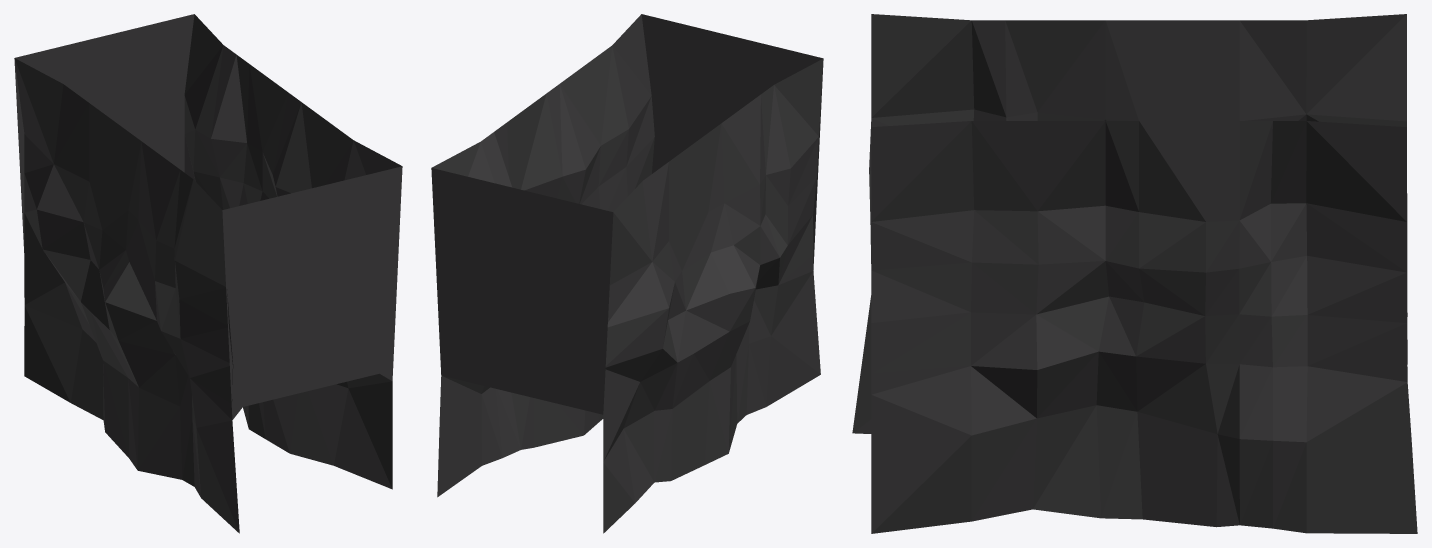
File: Cave_9B.fbx
The picture shows the model from 3 angles, left to right: view 1: azimuth 30°, elevation 25°; view 2: azimuth 150°, elevation 25°; view 3: azimuth 270°, elevation 25°; orthographic projection. The views are drawn at different scales.
Visible parts, largest first — view 1: polySurface9; view 2: polySurface9; view 3: polySurface9.
Boxes of the visible parts, left/top/right/bottom form: polySurface9: left=14, top=14, right=402, bottom=533; polySurface9: left=431, top=14, right=823, bottom=533; polySurface9: left=852, top=14, right=1417, bottom=533.
Bounding box in the file's own units: 10.25 × 15.67 × 18.99.
